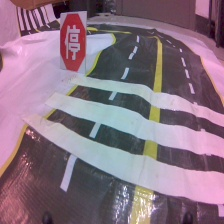stop: (59, 10, 88, 75)
